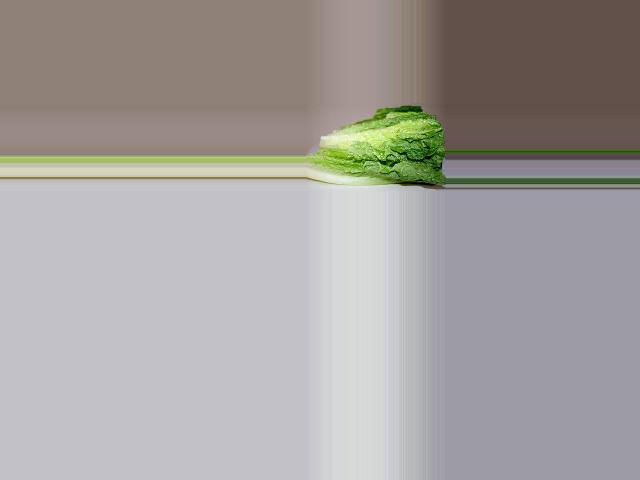lettuce: (313, 115, 446, 189)
